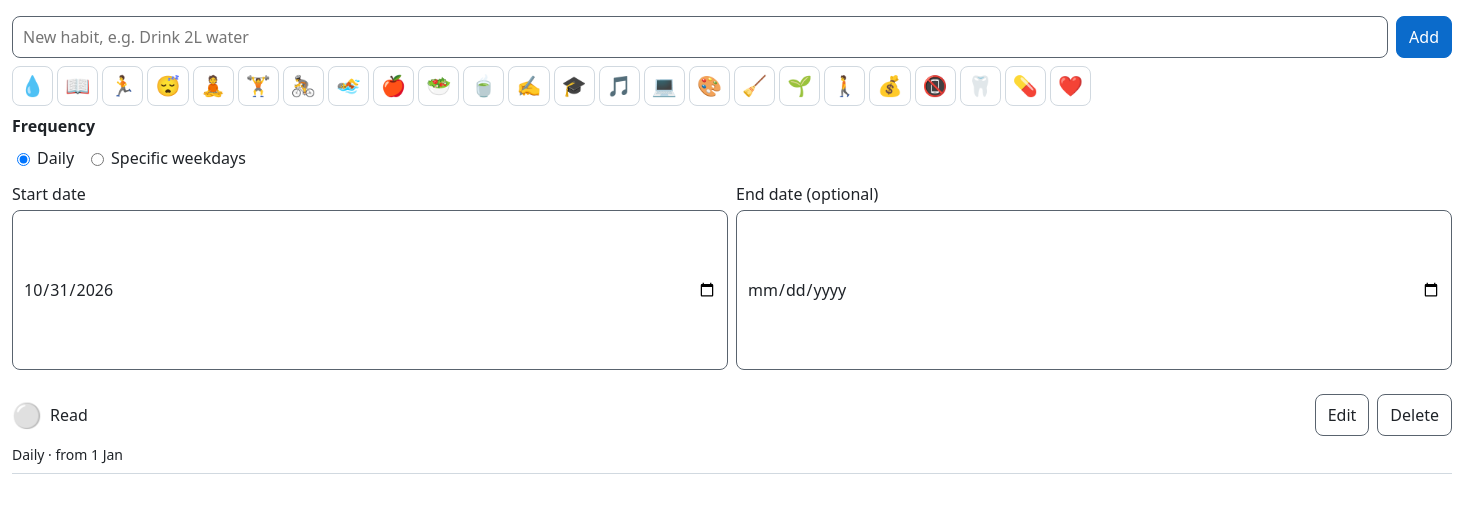
Scenario: HabitList › AC5 (#1): a duplicate name is rejected
Type " read " into the field named "New habit name" at (700, 37), box [12,16,1388,58]
Then press Enter
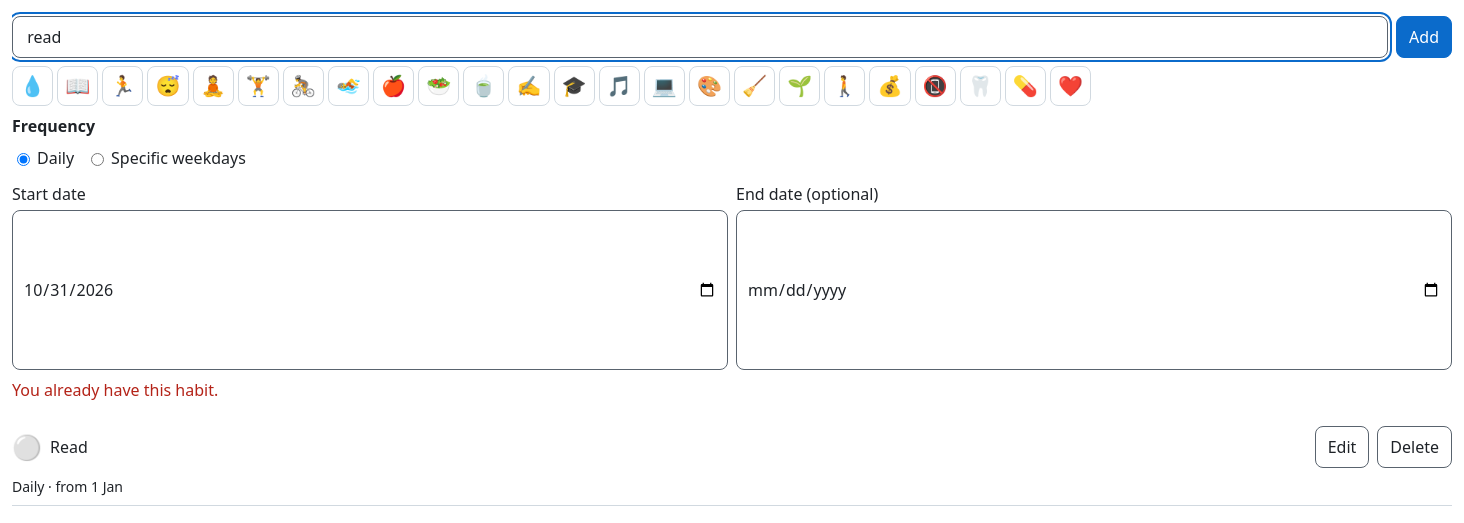
Expected: the message reads "You already have this habit.", [12,379,218,401]
